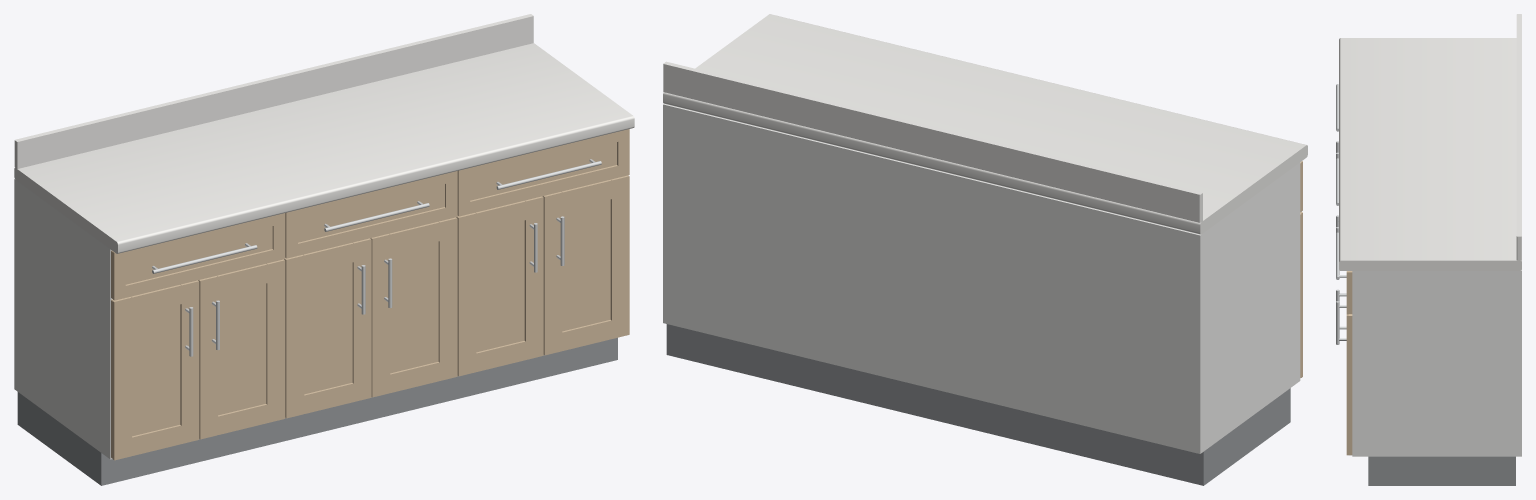
3 renders of one model, left to right at view 1: azimuth 30°, elevation 25°; view 2: azimuth 150°, elevation 25°; view 3: azimuth 270°, elevation 25°, orthographic. The views are drawn at different scales.
Parts seen in each view (by area): view 1: Tủ bếp dưới Dài=1800; Sâu=580; view 2: Tủ bếp dưới Dài=1800; Sâu=580; view 3: Tủ bếp dưới Dài=1800; Sâu=580.
Part boxes in pixels (x1,y1,x2,y2): Tủ bếp dưới Dài=1800; Sâu=580: (14,14,634,485); Tủ bếp dưới Dài=1800; Sâu=580: (663,14,1307,485); Tủ bếp dưới Dài=1800; Sâu=580: (1336,14,1521,485).
Bounding box in the file's own units: 1.8 × 0.94 × 0.635.
